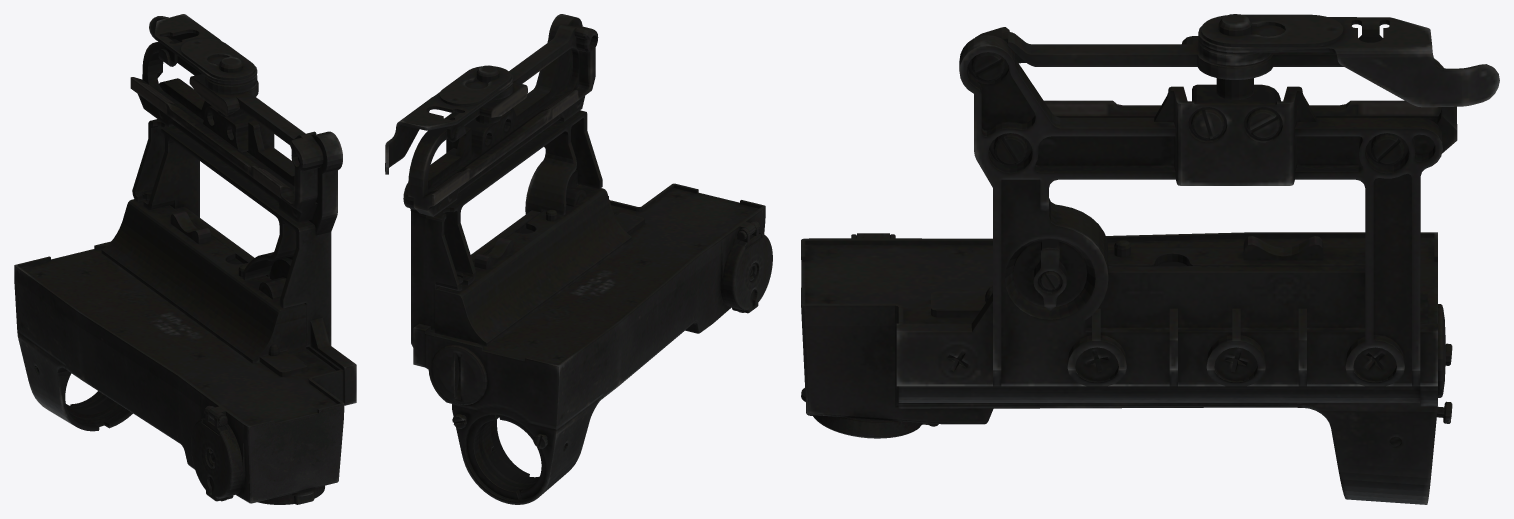
3 views of the same model, side by side, from view 1: azimuth 30°, elevation 25°; view 2: azimuth 150°, elevation 25°; view 3: azimuth 270°, elevation 25° (orthographic). The views are drawn at different scales.
Visible parts, largest first — view 1: TW_6544d4187c5457729210d277_PZ_Import; view 2: TW_6544d4187c5457729210d277_PZ_Import; view 3: TW_6544d4187c5457729210d277_PZ_Import.
Part boxes in pixels (x1=…): TW_6544d4187c5457729210d277_PZ_Import: x1=14, y1=14, x2=356, y2=504; TW_6544d4187c5457729210d277_PZ_Import: x1=385, y1=14, x2=772, y2=504; TW_6544d4187c5457729210d277_PZ_Import: x1=801, y1=14, x2=1499, y2=504.
Size of the model in its own units: 0.0357 by 0.0878 by 0.0747.
1 material, 1 textured.
